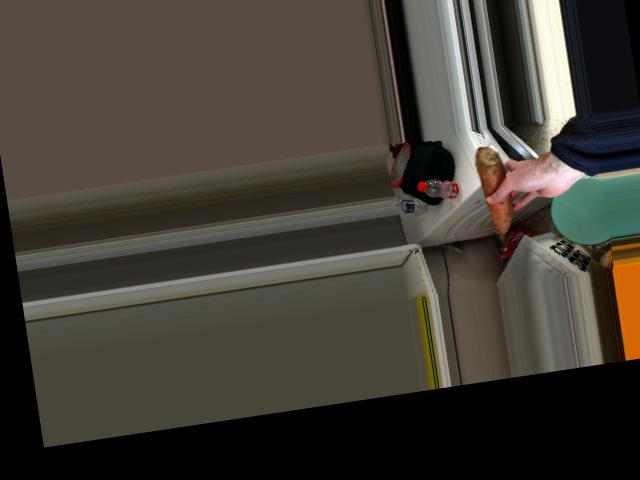sweet_potato: (483, 156, 516, 234)
